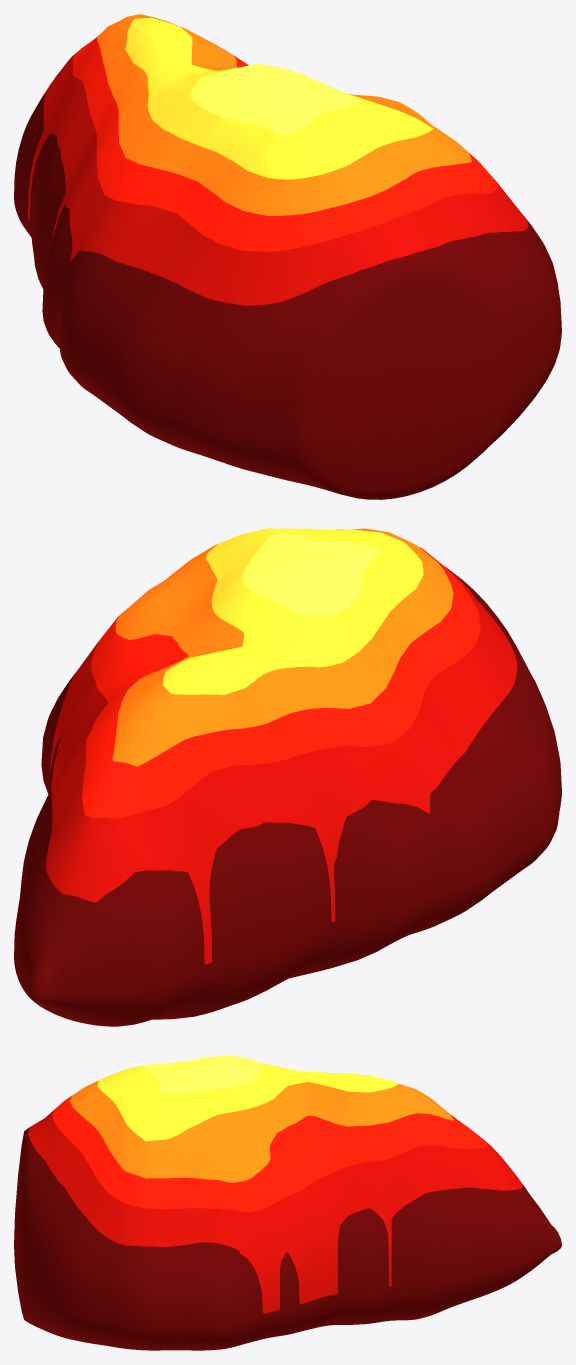
Rendered from flame_drop.glb.
3 renders of one model, top to bottom at view 1: azimuth 30°, elevation 25°; view 2: azimuth 150°, elevation 25°; view 3: azimuth 270°, elevation 25°, orthographic. The views are drawn at different scales.
Parts seen in each view (by area): view 1: flame; view 2: flame; view 3: flame.
Boxes of the visible parts, x1=… form: flame: x1=14, y1=14, x2=561, y2=499; flame: x1=14, y1=528, x2=561, y2=1026; flame: x1=14, y1=1055, x2=561, y2=1350.
Bounding box in the file's own units: 18.04 × 13.23 × 27.
